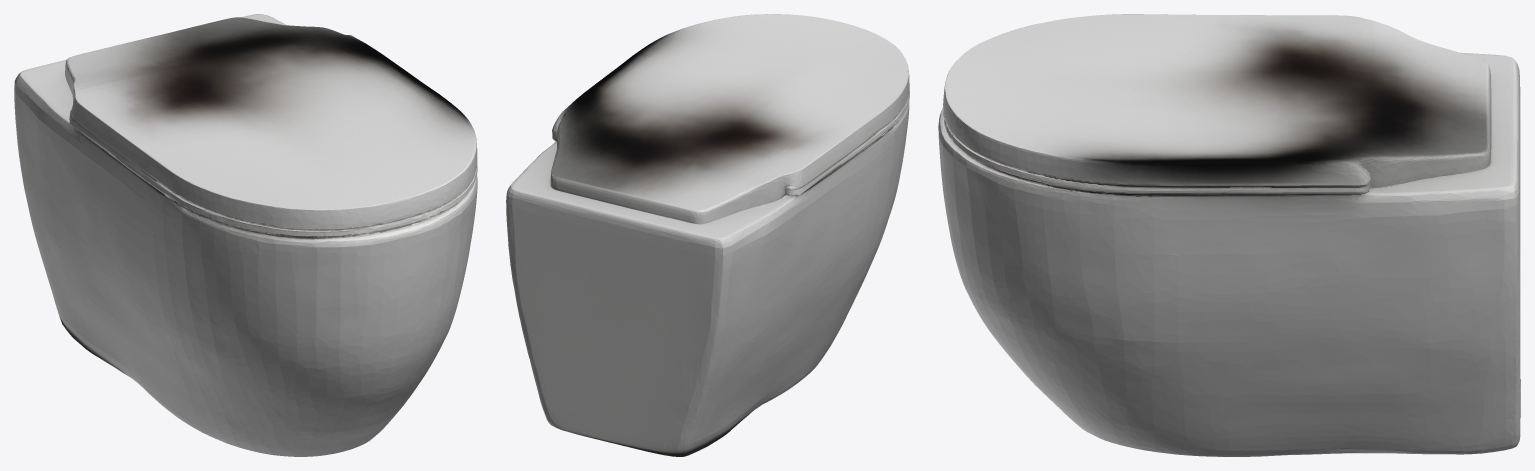
3 views of the same model, side by side, from view 1: azimuth 30°, elevation 25°; view 2: azimuth 150°, elevation 25°; view 3: azimuth 270°, elevation 25° (orthographic). The views are drawn at different scales.
Parts seen in each view (by area): view 1: world; view 2: world; view 3: world.
Part boxes in pixels (x1,y1,x2,y2): world: (14, 14, 477, 456); world: (506, 14, 909, 456); world: (938, 14, 1520, 456).
Bounding box in the file's own units: 0.6193 × 0.6165 × 1.
1 material, 1 textured.
